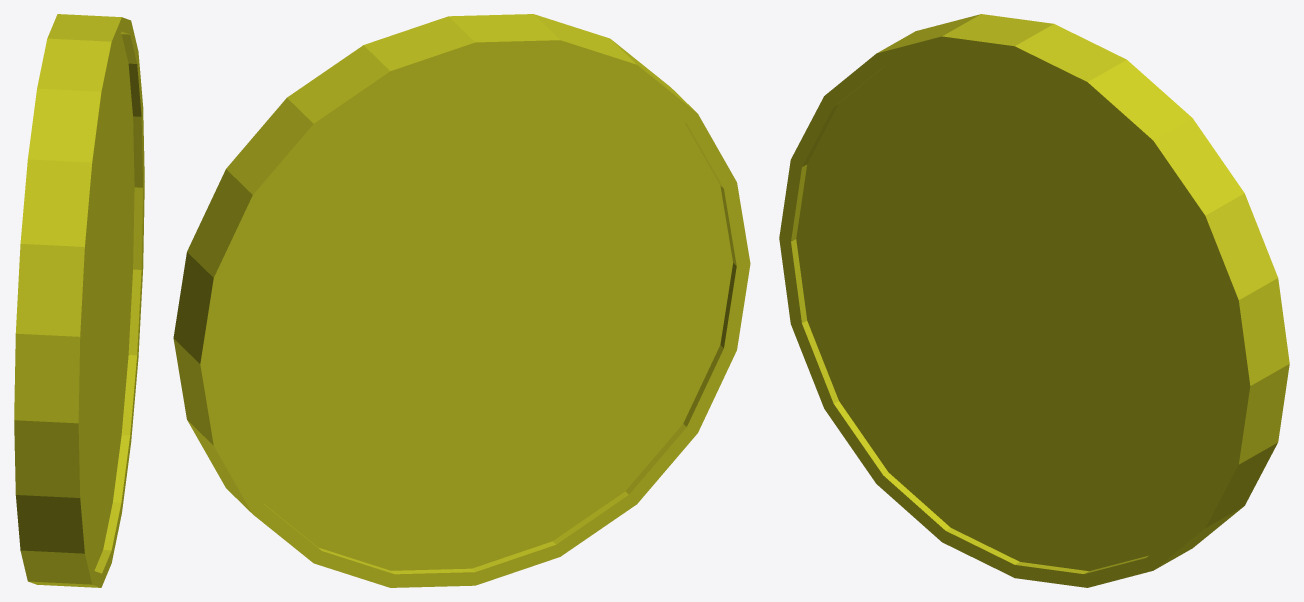
Rendered from Low Poly Coin_000200.obj.
3 views of the same model, side by side, from view 1: azimuth 30°, elevation 25°; view 2: azimuth 150°, elevation 25°; view 3: azimuth 270°, elevation 25° (orthographic). The views are drawn at different scales.
Visible parts, largest first — view 1: Cylinder; view 2: Cylinder; view 3: Cylinder.
Part boxes in pixels (left/top/right/bottom): Cylinder: left=14, top=14, right=144, bottom=587; Cylinder: left=173, top=14, right=750, bottom=587; Cylinder: left=779, top=14, right=1289, bottom=587.
Size of the model in its own units: 1.37 by 2 by 1.74.
